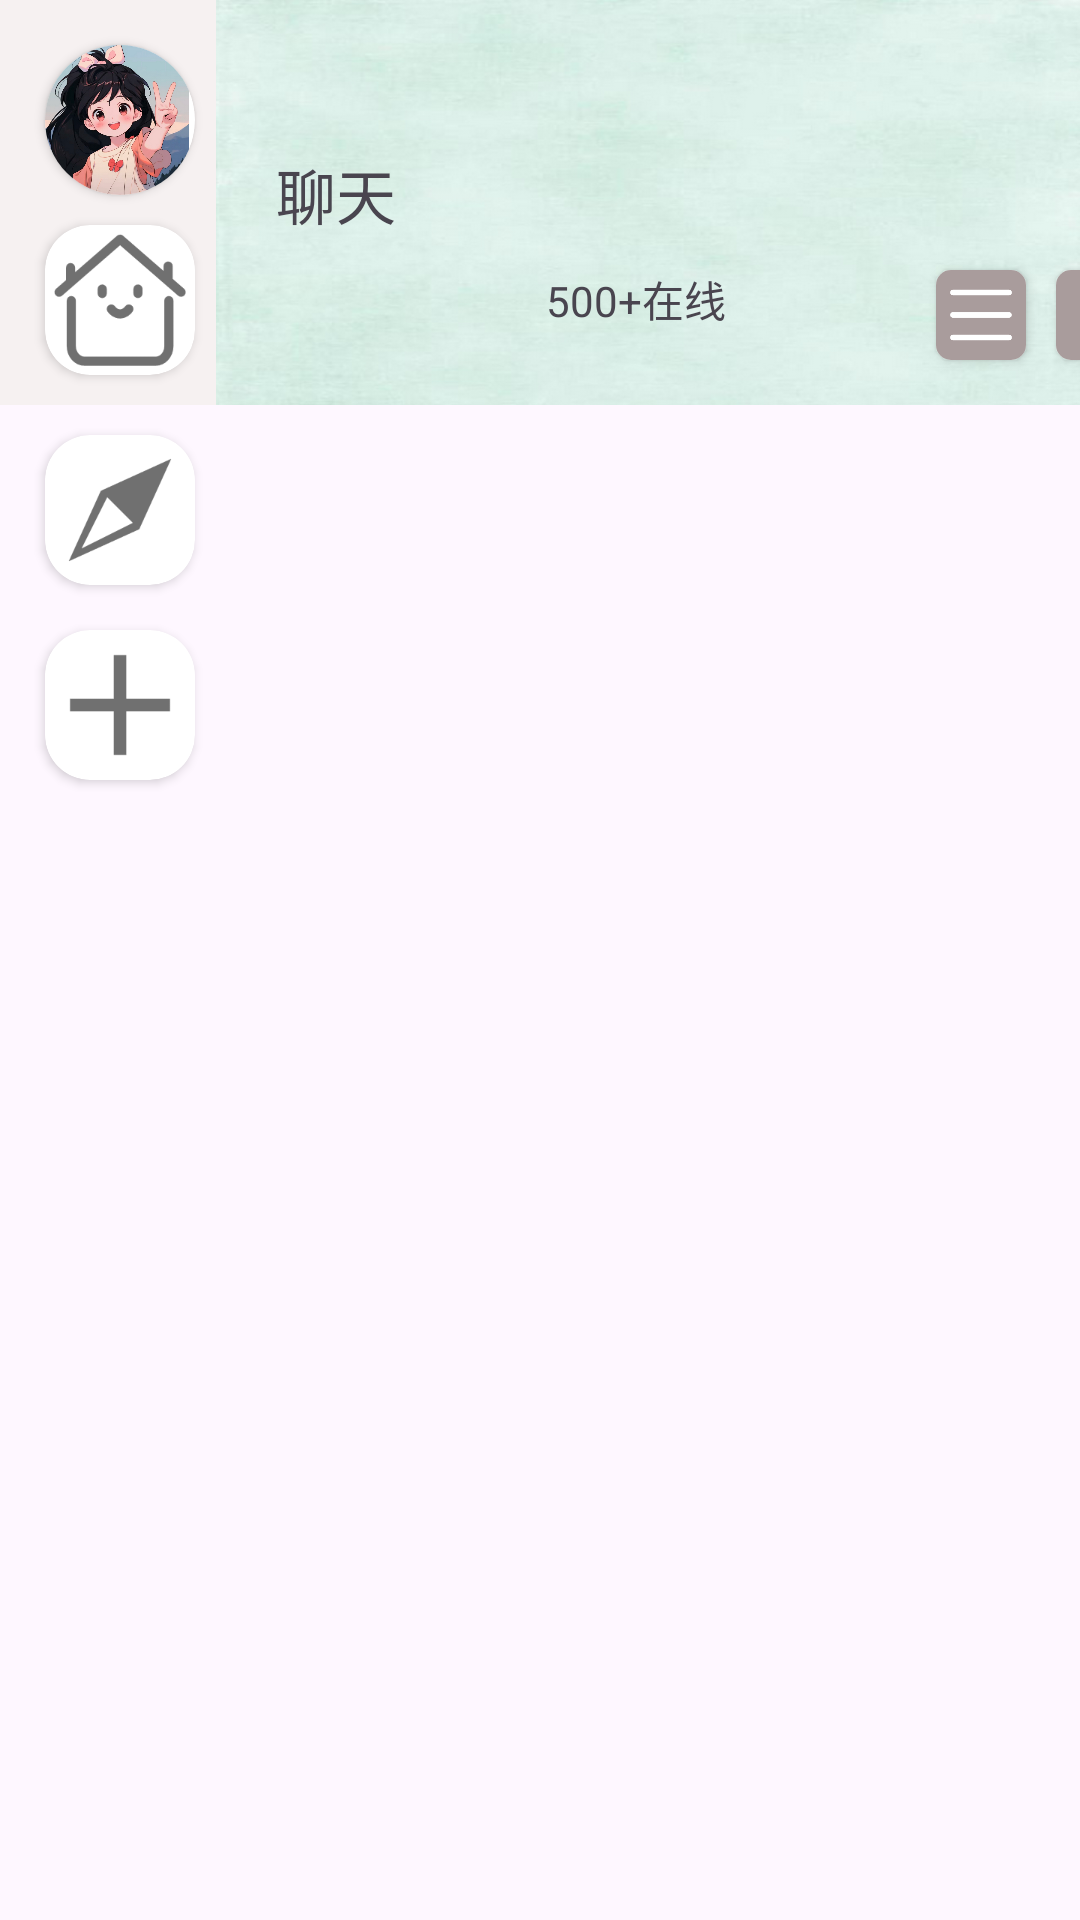

Screen size 1080×1920. Icon name, then its center in pixels as (x=x, y=y):
caidan: (x=981, y=315)
compass: (x=116, y=519)
insert: (x=116, y=715)
